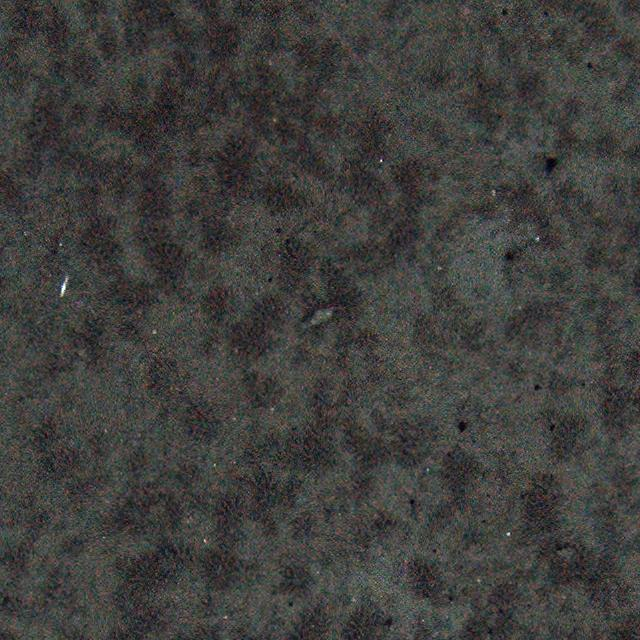whelk: (298, 304, 338, 332)
